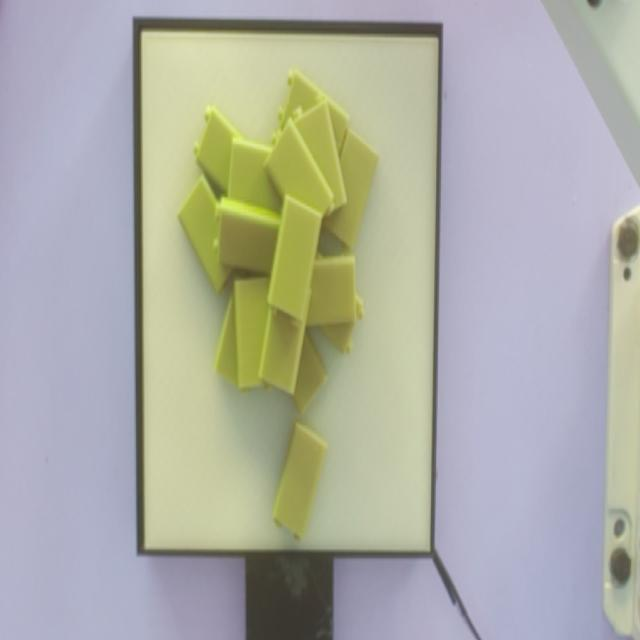bateria: (267, 195, 323, 330), (272, 423, 329, 548)
mesa: (133, 18, 442, 559)
